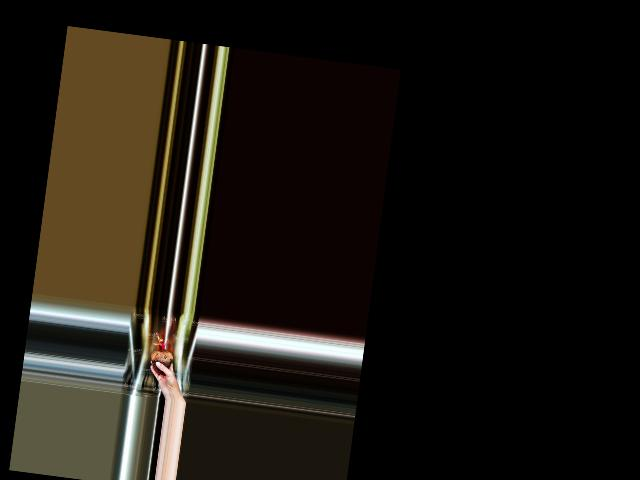beet: (148, 332, 175, 375)
